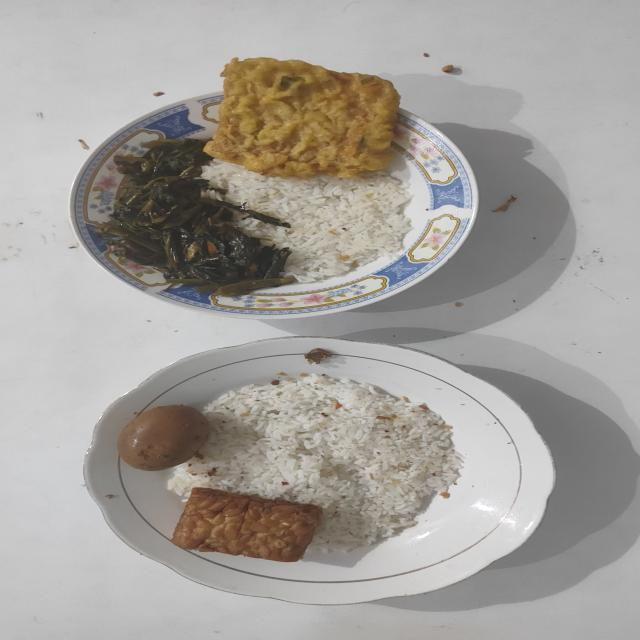nasi_putih: (170, 374, 462, 552), (201, 160, 411, 283)
tempe_goreng: (171, 488, 322, 562)
tumis_kangkung: (86, 138, 294, 296)
